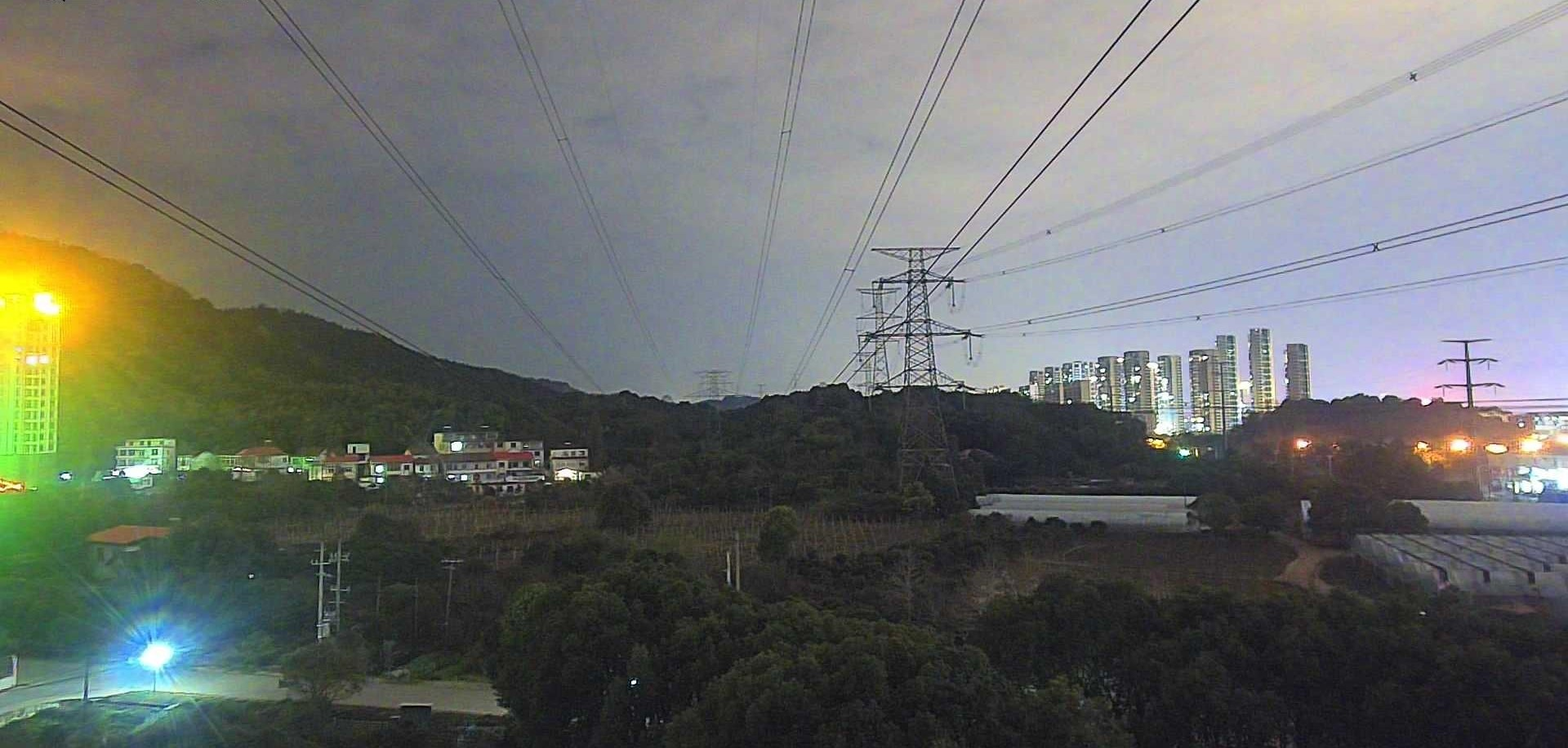过爆灯光: (1512, 465, 1567, 492), (111, 463, 161, 479), (37, 291, 59, 314), (1153, 414, 1174, 434), (1522, 439, 1543, 452), (1449, 439, 1468, 452), (1555, 431, 1568, 447), (1295, 439, 1309, 447), (25, 356, 37, 365), (60, 473, 71, 479), (39, 357, 48, 364), (1418, 442, 1427, 449)
